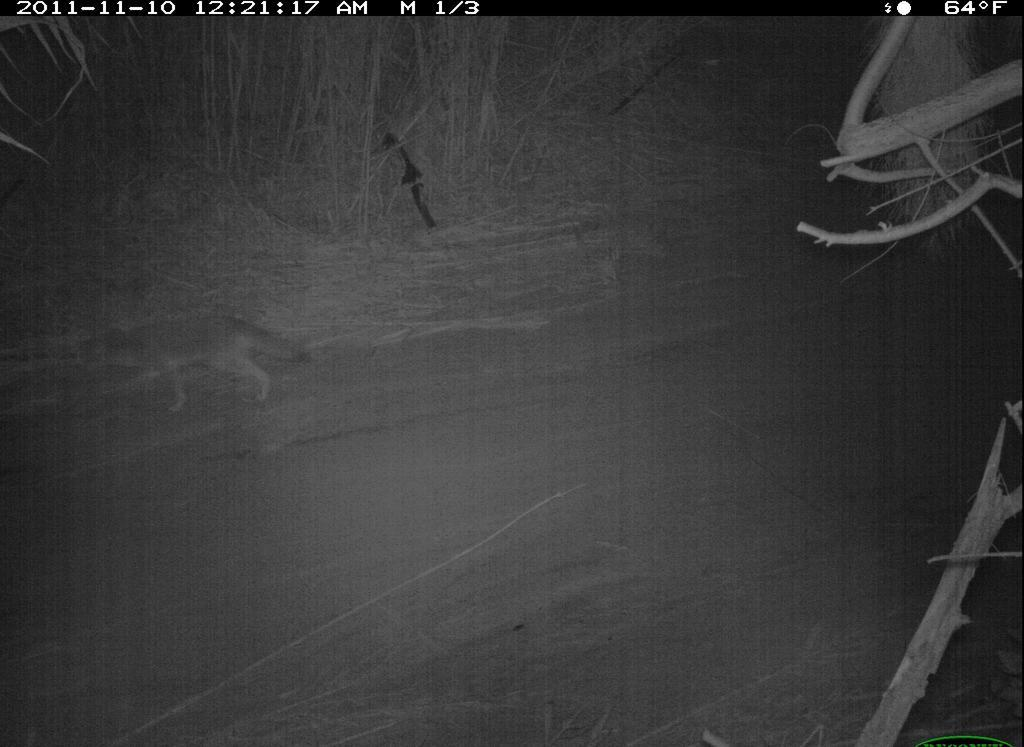coyote: (73, 301, 314, 419)
